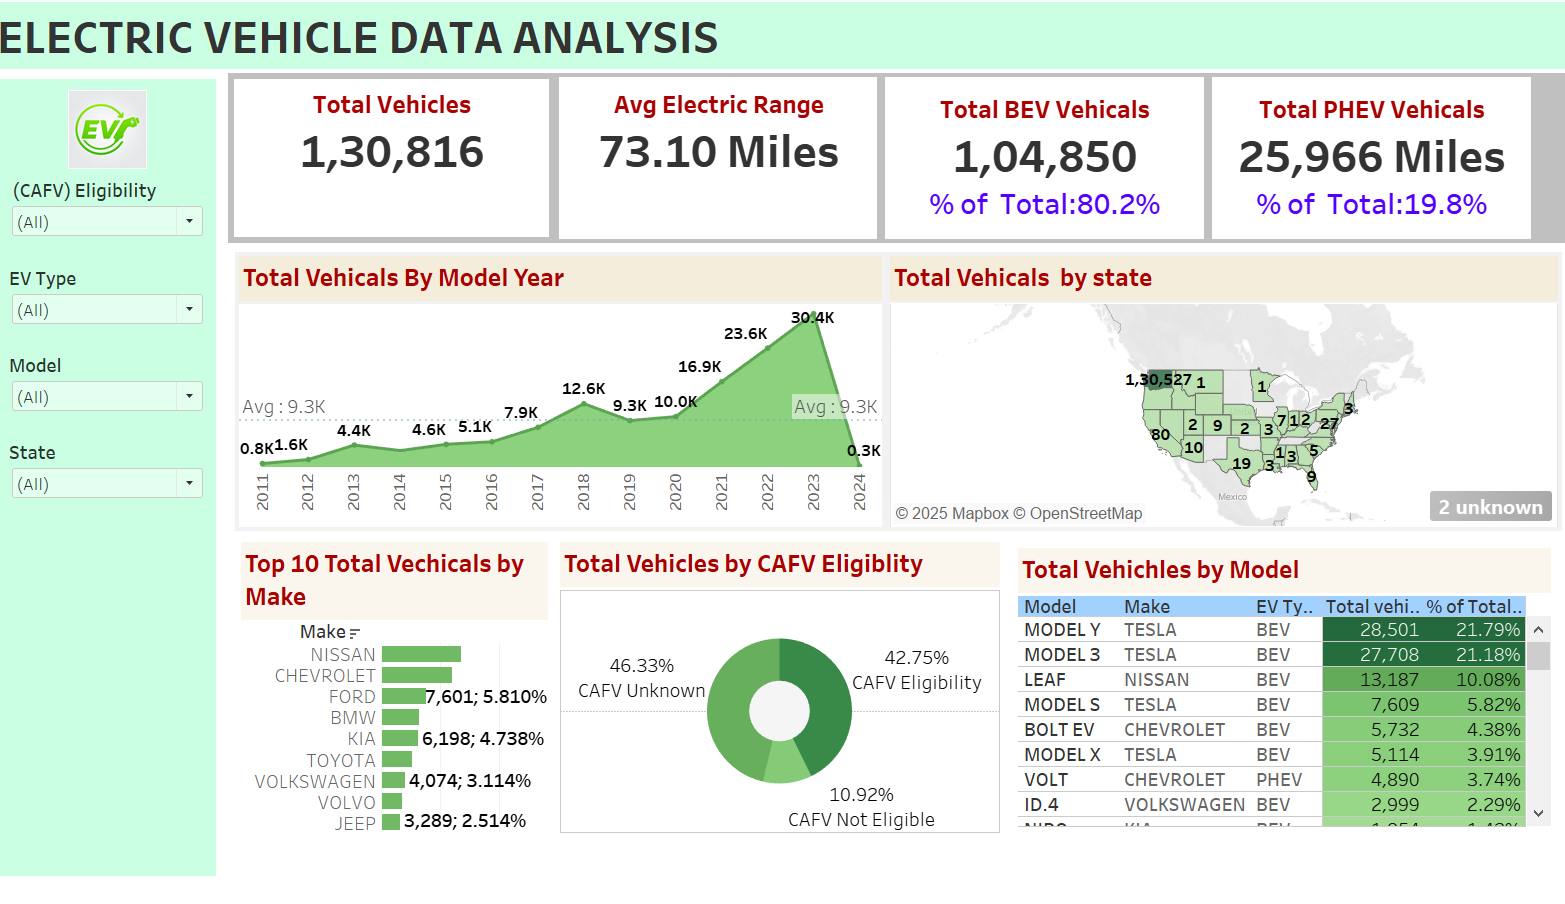

The page's visual inventory and layout, read from the dashboard file:
{"tool":"tableau","page":{"name":"Dashboard 1","canvas":[1600,900],"ordinal":0},"visuals":[{"type":"title","box":[8,8,1584,75]},{"type":"worksheet","title":"total vechicles","mark":"Automatic","box":[247,83,326.7,170]},{"type":"worksheet","title":"Avg Electric Range","mark":"Automatic","box":[573.7,83,326.7,170]},{"type":"worksheet","title":"Total BEV Vechicles","mark":"Automatic","box":[900.5,83,326.7,170]},{"type":"worksheet","title":"Total PHEV Vechicles ","mark":"Automatic","box":[1227.2,83,326.7,170]},{"type":"blank","box":[1554,83,32,170]},{"type":"image","param":"Image/ppp.jpg","box":[24,95,205,88]},{"type":"filter","title":"Total Vehicals  by state","param":"[federated.1uvkowf0ms50cy168n8s00m3ncd6].[none:Clean Alternative Fuel Vehicle (C","box":[24,183,205,88]},{"type":"worksheet","title":"Total Vehicals By Model Year","mark":"Area","rows":["Calculation_1355020545784614913","Calculation_1355020545784614913"],"cols":["Model Year"],"box":[254,262,651,279]},{"type":"worksheet","title":"Total Vehicals  by state","mark":"Multipolygon","box":[905,262,676,279]},{"type":"filter","title":"Total Vehicals  by state","param":"[federated.1uvkowf0ms50cy168n8s00m3ncd6].[none:Electric Vehicle Type:nk]","box":[24,271,205,87]},{"type":"filter","title":"Total Vehicals  by state","param":"[federated.1uvkowf0ms50cy168n8s00m3ncd6].[none:Model:nk]","box":[24,358,205,87]},{"type":"filter","title":"Total Vehicals  by state","param":"[federated.1uvkowf0ms50cy168n8s00m3ncd6].[none:State:nk]","box":[24,445,205,87]},{"type":"blank","box":[24,532,205,87]},{"type":"worksheet","title":"Top 10 Total Vechicals by Make","mark":"Automatic","rows":["Make"],"cols":["Calculation_1355020545784614913"],"box":[254,546,319,303]},{"type":"worksheet","title":"Total Vehicles by CAFV Eligiblity","mark":"Pie","rows":["Calculation_1092967344954015745","Calculation_1092967344954015745"],"box":[573,546,452,303]},{"type":"worksheet","title":"Total Vehichles by Model","mark":"Square","rows":["Model","Make","Electric Vehicle Type"],"box":[1025,546,557,303]},{"type":"blank","box":[24,619,205,87]},{"type":"blank","box":[24,706,205,87]},{"type":"blank","box":[24,793,205,87]}]}

Visuals, with their boxes in screenshot pixels (x1, y1, x2, y2), scaled from the page's 1600x900 canvas onto the 1565x904 screenshot:
title: select_region(8, 8, 1557, 83)
"total vechicles" worksheet: select_region(242, 83, 561, 254)
"Avg Electric Range" worksheet: select_region(561, 83, 881, 254)
"Total BEV Vechicles" worksheet: select_region(881, 83, 1200, 254)
"Total PHEV Vechicles " worksheet: select_region(1200, 83, 1520, 254)
blank: select_region(1520, 83, 1551, 254)
image: select_region(23, 95, 224, 184)
"Total Vehicals  by state" filter: select_region(23, 184, 224, 272)
"Total Vehicals By Model Year" worksheet (Area marks): select_region(248, 263, 885, 543)
"Total Vehicals  by state" worksheet (Multipolygon marks): select_region(885, 263, 1546, 543)
"Total Vehicals  by state" filter: select_region(23, 272, 224, 360)
"Total Vehicals  by state" filter: select_region(23, 360, 224, 447)
"Total Vehicals  by state" filter: select_region(23, 447, 224, 534)
blank: select_region(23, 534, 224, 622)
"Top 10 Total Vechicals by Make" worksheet: select_region(248, 548, 560, 853)
"Total Vehicles by CAFV Eligiblity" worksheet (Pie marks): select_region(560, 548, 1003, 853)
"Total Vehichles by Model" worksheet (Square marks): select_region(1003, 548, 1547, 853)
blank: select_region(23, 622, 224, 709)
blank: select_region(23, 709, 224, 797)
blank: select_region(23, 797, 224, 884)
